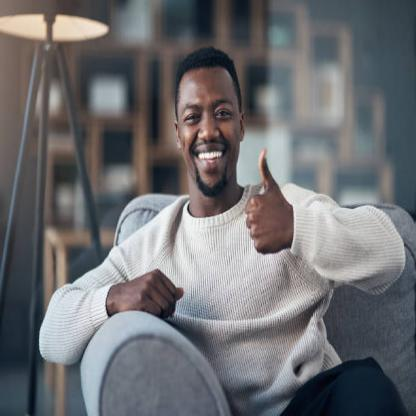thumb_up: (241, 145, 290, 257)
